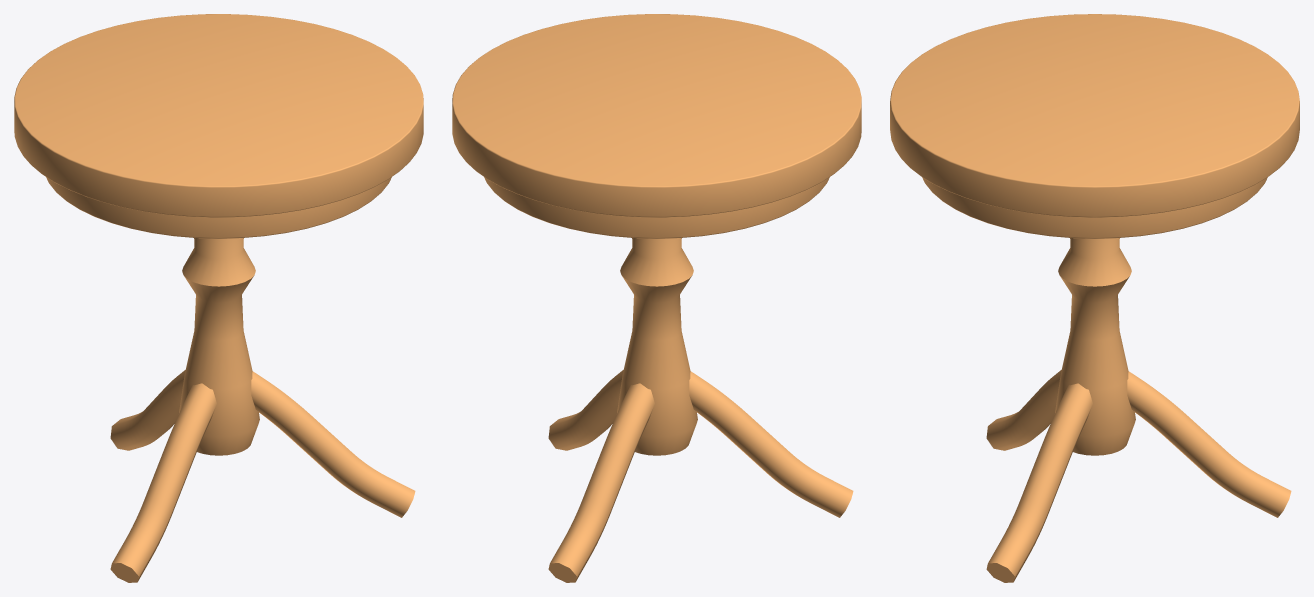
The model's file is mesa_lateral_tripe_laranja.glb.
The picture shows the model from 3 angles, left to right: view 1: azimuth 30°, elevation 25°; view 2: azimuth 150°, elevation 25°; view 3: azimuth 270°, elevation 25°; orthographic projection.
Parts seen in each view (by area): view 1: mesa_lateral_tripe_laranja; view 2: mesa_lateral_tripe_laranja; view 3: mesa_lateral_tripe_laranja.
Part boxes in pixels (box(x1,y1,x2,y2)): mesa_lateral_tripe_laranja: box(14, 14, 423, 582); mesa_lateral_tripe_laranja: box(452, 14, 861, 582); mesa_lateral_tripe_laranja: box(890, 14, 1299, 582).
Bounding box in the file's own units: 0.5 × 0.5611 × 0.5.
1 material, 1 textured.
